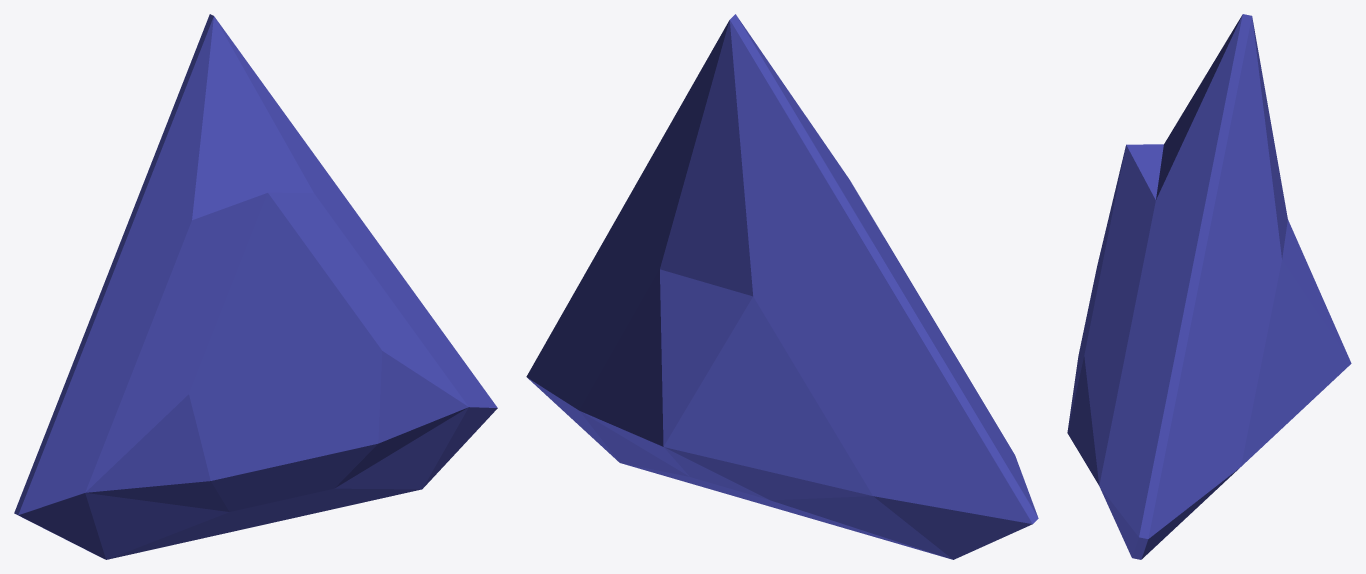
Rendered from tanzanite.glb.
3 views of the same model, side by side, from view 1: azimuth 30°, elevation 25°; view 2: azimuth 150°, elevation 25°; view 3: azimuth 270°, elevation 25° (orthographic). The views are drawn at different scales.
Parts seen in each view (by area): view 1: tanzanite; view 2: tanzanite; view 3: tanzanite.
Part boxes in pixels (box(x1,y1,x2,y2)): tanzanite: box(14, 14, 497, 559); tanzanite: box(526, 14, 1038, 559); tanzanite: box(1067, 14, 1351, 559).
Size of the model in its own units: 2.32 by 2.27 by 1.23.
